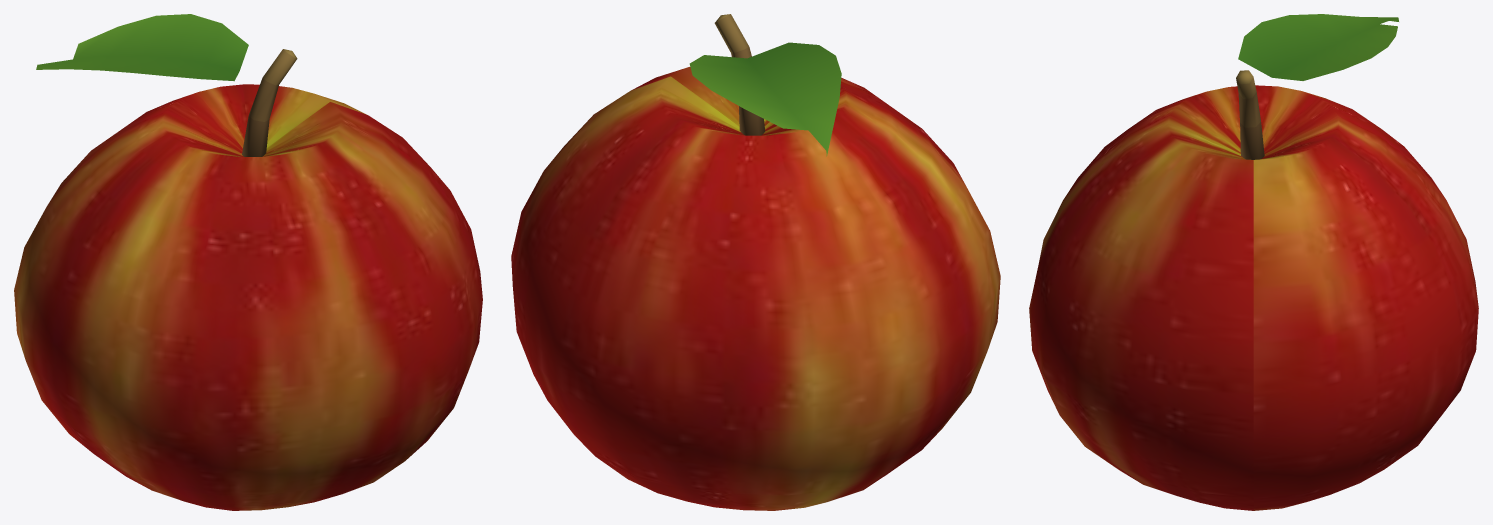
The model's file is orchard_apple.glb.
3 renders of one model, left to right at view 1: azimuth 30°, elevation 25°; view 2: azimuth 150°, elevation 25°; view 3: azimuth 270°, elevation 25°, orthographic. The views are drawn at different scales.
Visible parts, largest first — view 1: OrchardAppleMesh; view 2: OrchardAppleMesh; view 3: OrchardAppleMesh.
Boxes of the visible parts, bbox=[...] form: OrchardAppleMesh: bbox=[14, 14, 482, 510]; OrchardAppleMesh: bbox=[511, 14, 1000, 510]; OrchardAppleMesh: bbox=[1029, 14, 1478, 510].
Size of the model in its own units: 0.1585 by 0.1577 by 0.1534.
2 materials, 1 textured.
